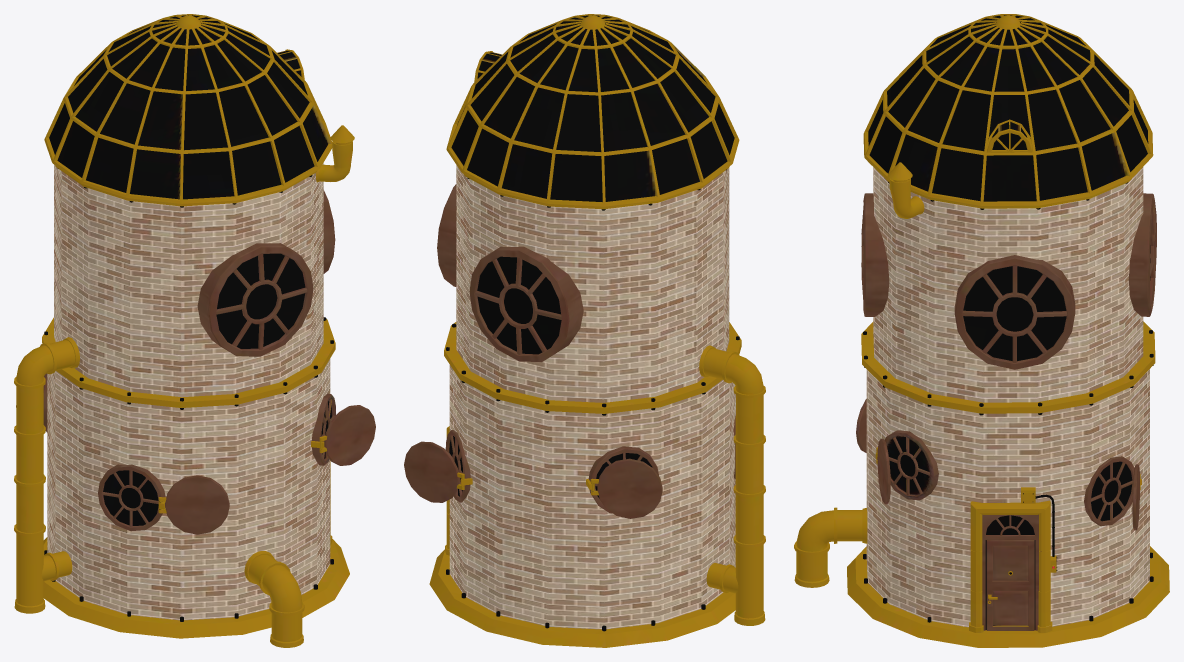
File: BLD_MitoPlant.glb
The picture shows the model from 3 angles, left to right: view 1: azimuth 30°, elevation 25°; view 2: azimuth 150°, elevation 25°; view 3: azimuth 270°, elevation 25°; orthographic projection.
Visible parts, largest first — view 1: Object_4; view 2: Object_4; view 3: Object_4.
Part boxes in pixels (x1=…): Object_4: x1=14, y1=14, x2=375, y2=647; Object_4: x1=404, y1=14, x2=765, y2=647; Object_4: x1=794, y1=14, x2=1169, y2=647.
Bounding box in the file's own units: 7.54 × 12.96 × 7.83.
Materials: 1 (1 with a texture image).
